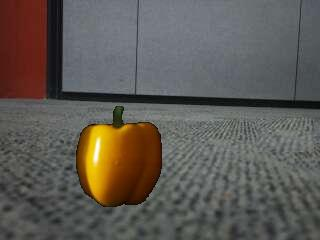Capsicum: (76, 106, 162, 208)
